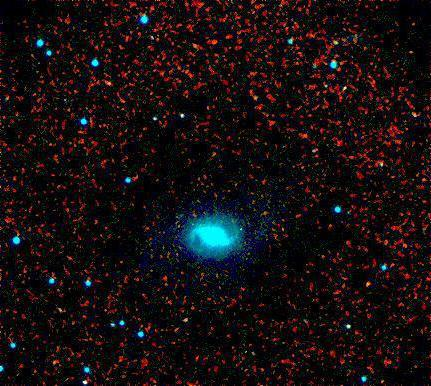star: (357, 266, 387, 296)
